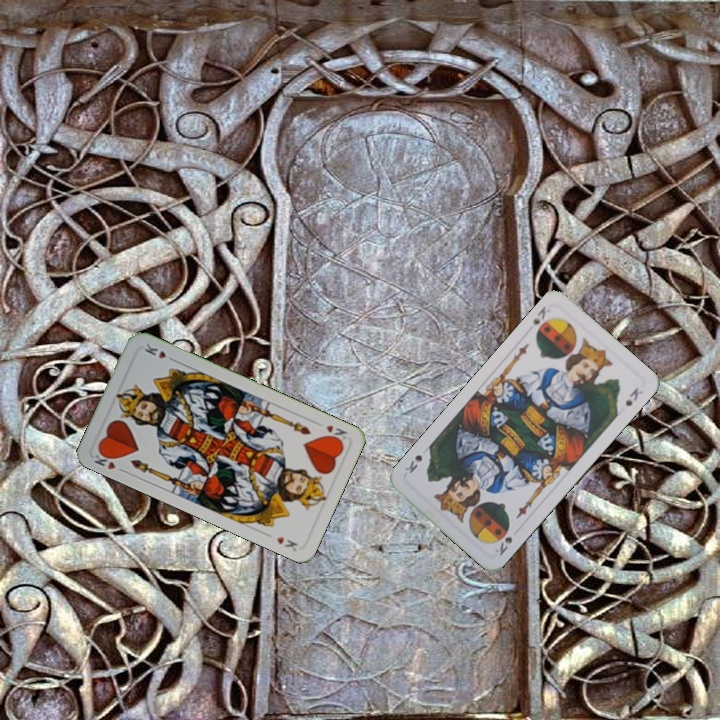HK: (90, 446, 119, 472), (321, 421, 350, 445)
SK: (491, 533, 515, 558), (529, 302, 553, 327)
